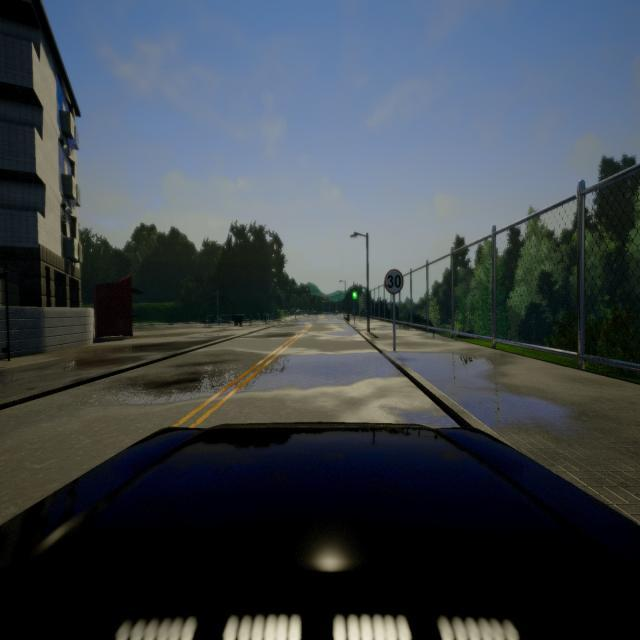Speed Limit -30-: (383, 268, 404, 294)
